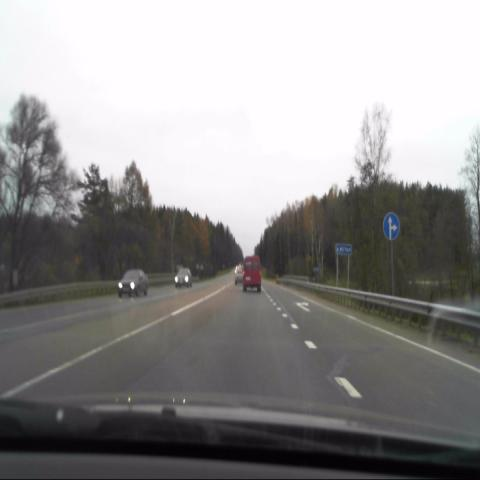4_1_4: (382, 210, 401, 243)
